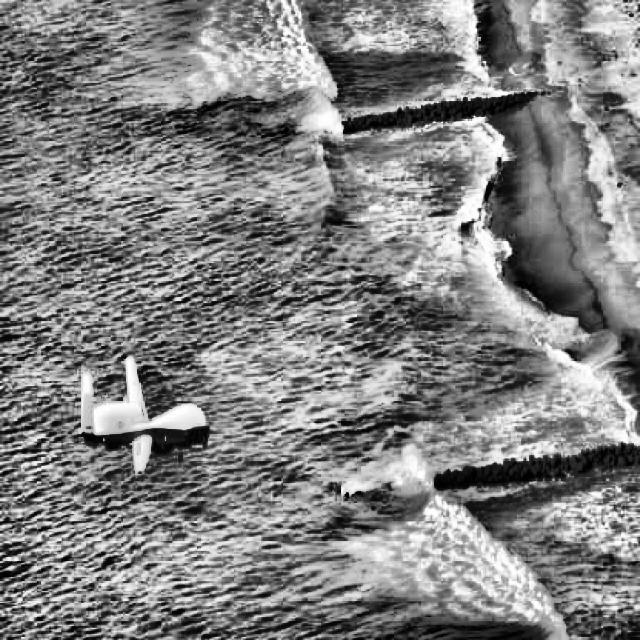RQ4: (78, 358, 210, 474)
